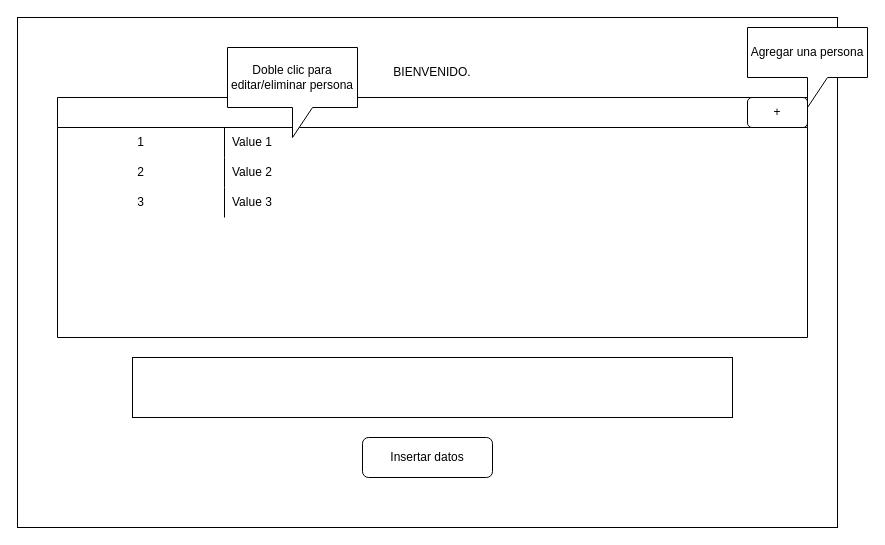
This 885x545 diagram has some shape labels left out. Each missing label, with the box of its shape:
Cargar archivo excel: (132, 356, 732, 418)
Table: (56, 96, 808, 338)
